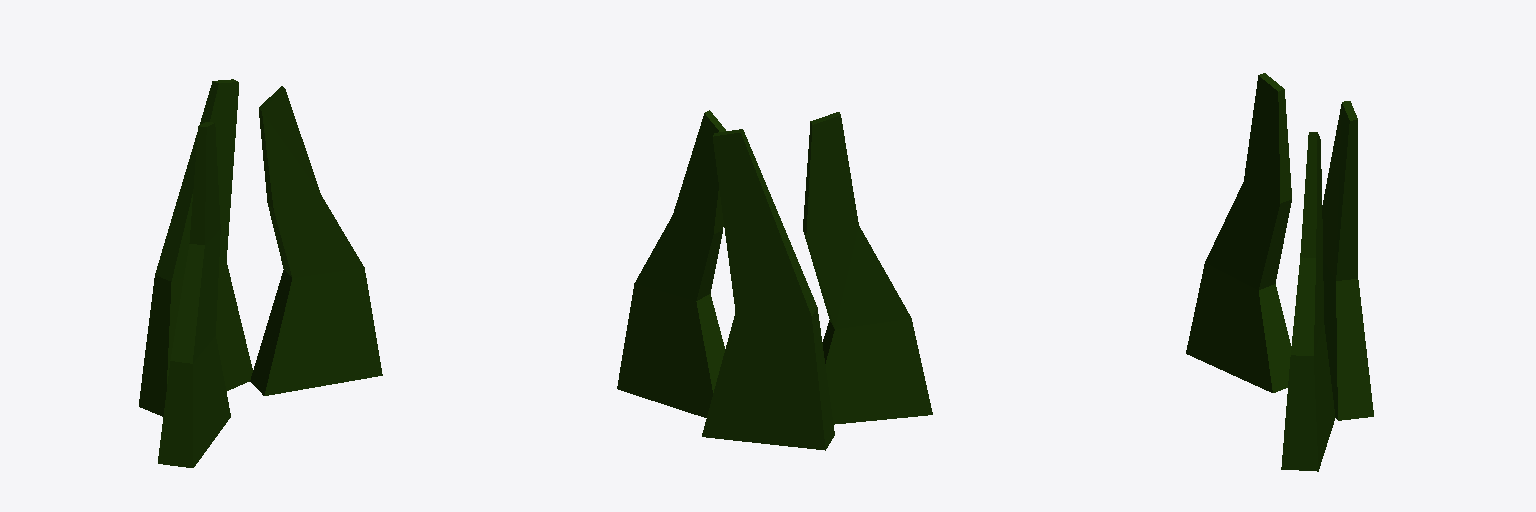
Rendered from grass.obj.
The picture shows the model from 3 angles: view 1: azimuth 30°, elevation 25°; view 2: azimuth 150°, elevation 25°; view 3: azimuth 270°, elevation 25°; orthographic projection.
Visible parts, largest first — view 1: Cube.019_Cube.021; view 2: Cube.019_Cube.021; view 3: Cube.019_Cube.021.
Part boxes in pixels (x1,y1,x2,y2): Cube.019_Cube.021: (139,79,382,467); Cube.019_Cube.021: (617,110,932,450); Cube.019_Cube.021: (1186,73,1373,471).
Bounding box in the file's own units: 0.2845 × 0.312 × 0.1761.